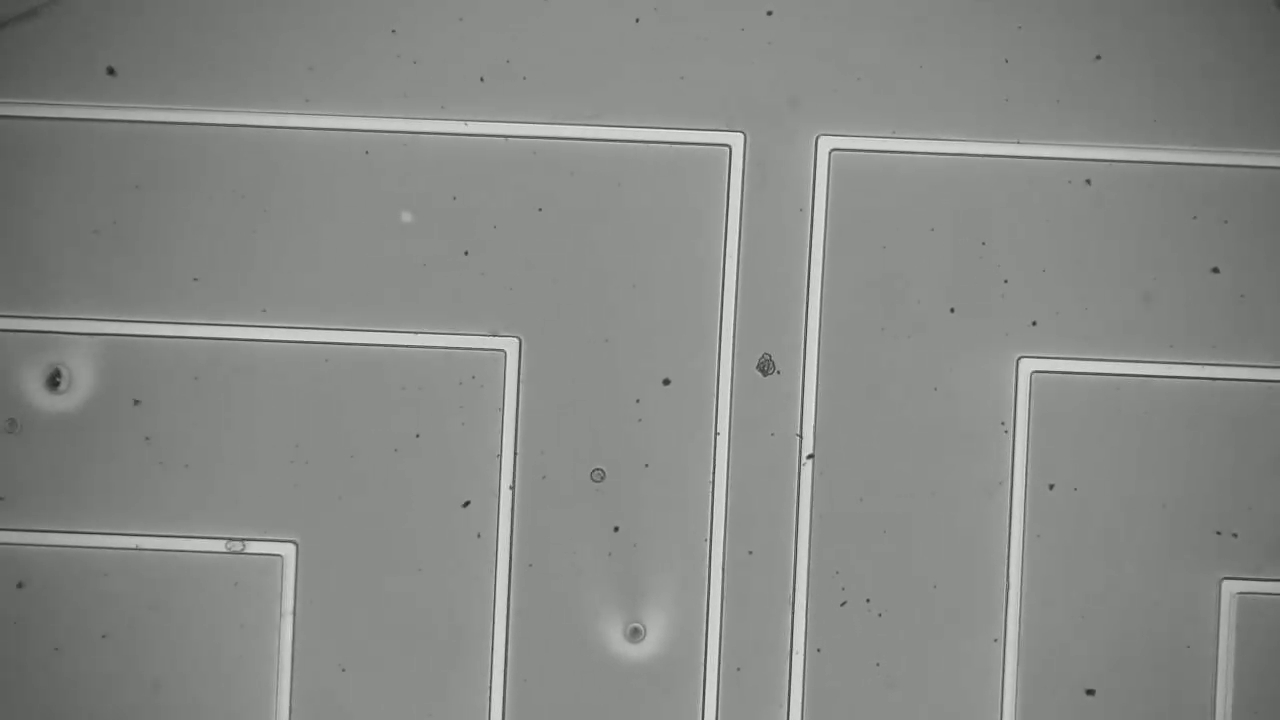stains_enbedded: (219, 519, 251, 566), (798, 445, 820, 466)
